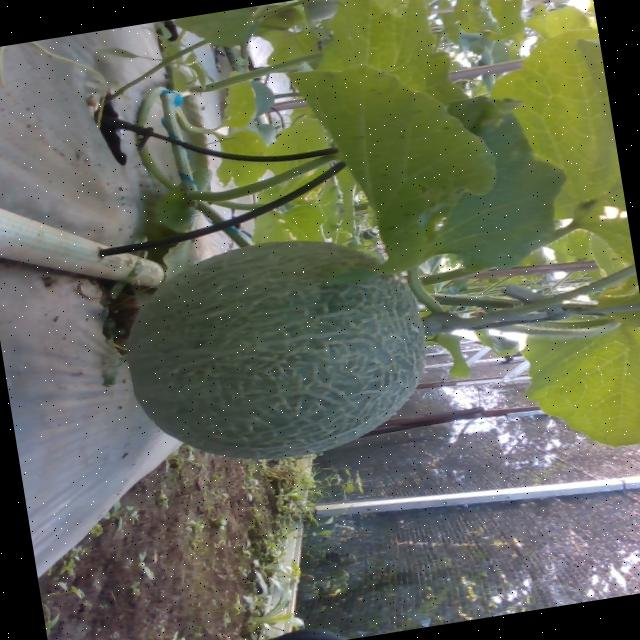melon: (126, 242, 424, 460)
